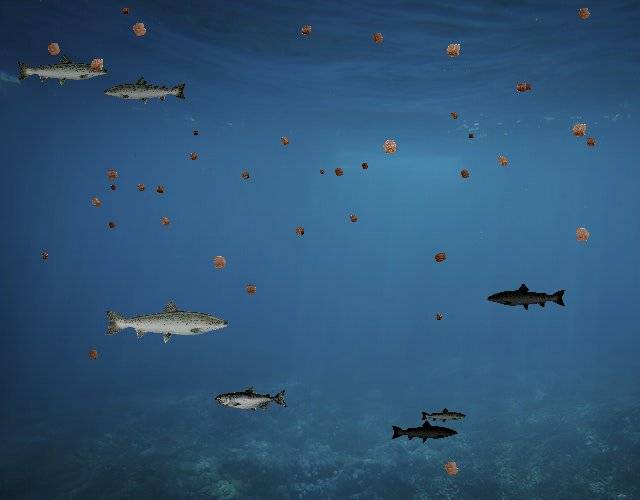Fish: (102, 298, 231, 344), (15, 53, 109, 87), (102, 75, 188, 106), (486, 282, 567, 311), (216, 387, 289, 413), (390, 420, 458, 444), (420, 407, 467, 424)
Pellet: (439, 36, 468, 65), (565, 116, 593, 144), (572, 1, 596, 25), (296, 20, 317, 41), (455, 164, 474, 183), (345, 210, 362, 227), (432, 310, 446, 324), (38, 249, 52, 263)
